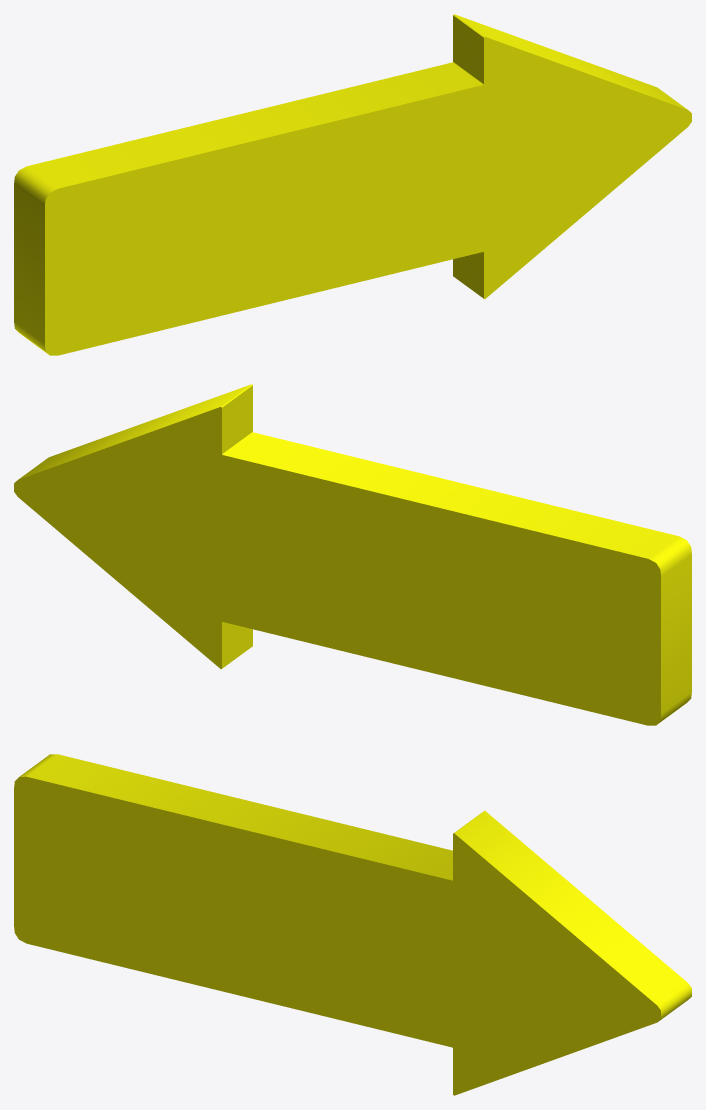
The picture shows the model from 3 angles, top to bottom: view 1: azimuth 30°, elevation 25°; view 2: azimuth 150°, elevation 25°; view 3: azimuth 330°, elevation 25°; orthographic projection.
Parts seen in each view (by area): view 1: Arrow5; view 2: Arrow5; view 3: Arrow5.
Boxes of the visible parts, <box> form: Arrow5: <box>14,14,691,355</box>; Arrow5: <box>14,384,691,725</box>; Arrow5: <box>14,754,691,1095</box>.
Size of the model in its own units: 0.3078 by 0.1193 by 0.0254.
1 material, 1 textured.
